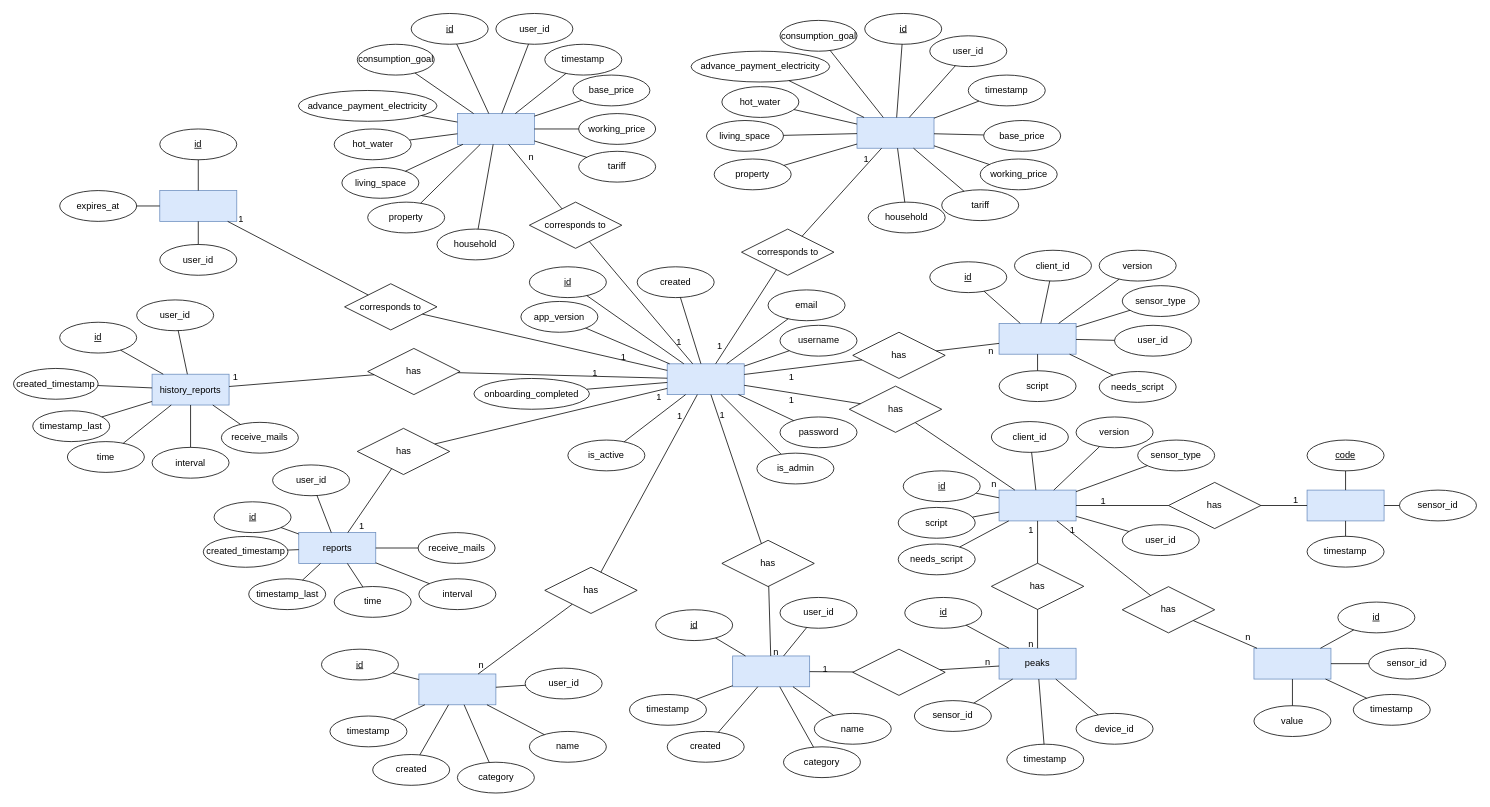
Image size: 1490x807. Some labels were removed from this diagram. The centre of each missing label's shape, as x and y in pixels:
causes: pixel 898 671
device: pixel 771 671
history_device: pixel 457 689
history_user_data: pixel 495 128
sensor: pixel 1037 505
sensor_data: pixel 1292 663
sensor_history: pixel 1037 338
sensor_token: pixel 1345 505
session: pixel 198 205
user: pixel 705 379
user_data: pixel 895 132
